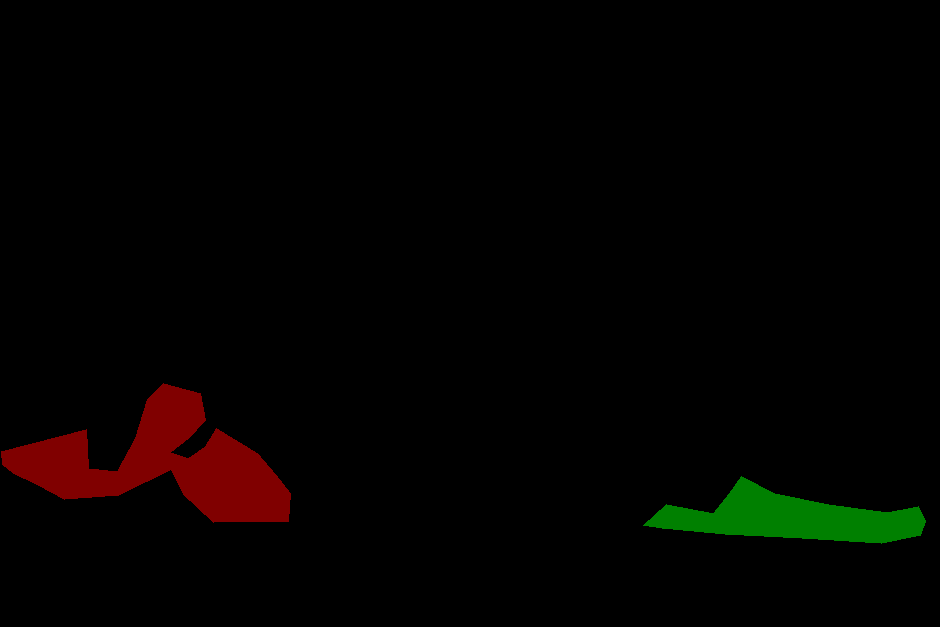fire: (1, 383, 290, 522), (643, 476, 925, 543)
